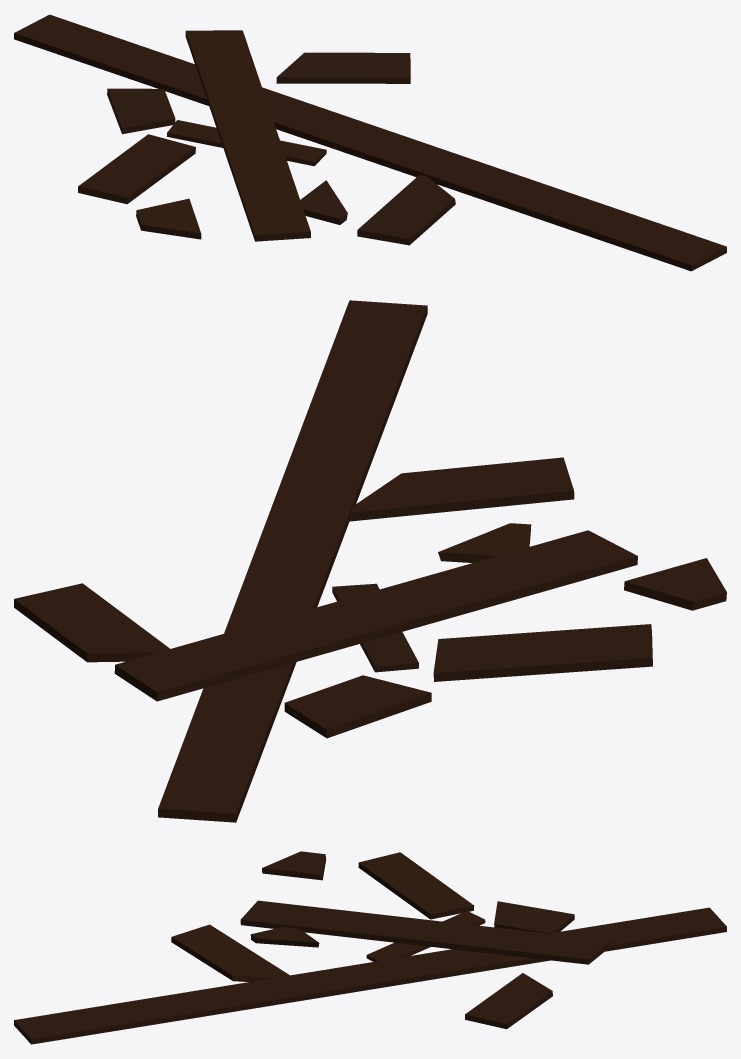
Rendered from DebrisPlanche1.FBX.
The picture shows the model from 3 angles, top to bottom: view 1: azimuth 30°, elevation 25°; view 2: azimuth 150°, elevation 25°; view 3: azimuth 270°, elevation 25°; orthographic projection. The views are drawn at different scales.
Visible parts, largest first — view 1: Box003; view 2: Box003; view 3: Box003.
Part boxes in pixels (<box>): Box003: <box>14,14,726,271</box>; Box003: <box>14,300,726,822</box>; Box003: <box>14,851,726,1044</box>.
Bounding box in the file's own units: 167 × 10.18 × 278.
